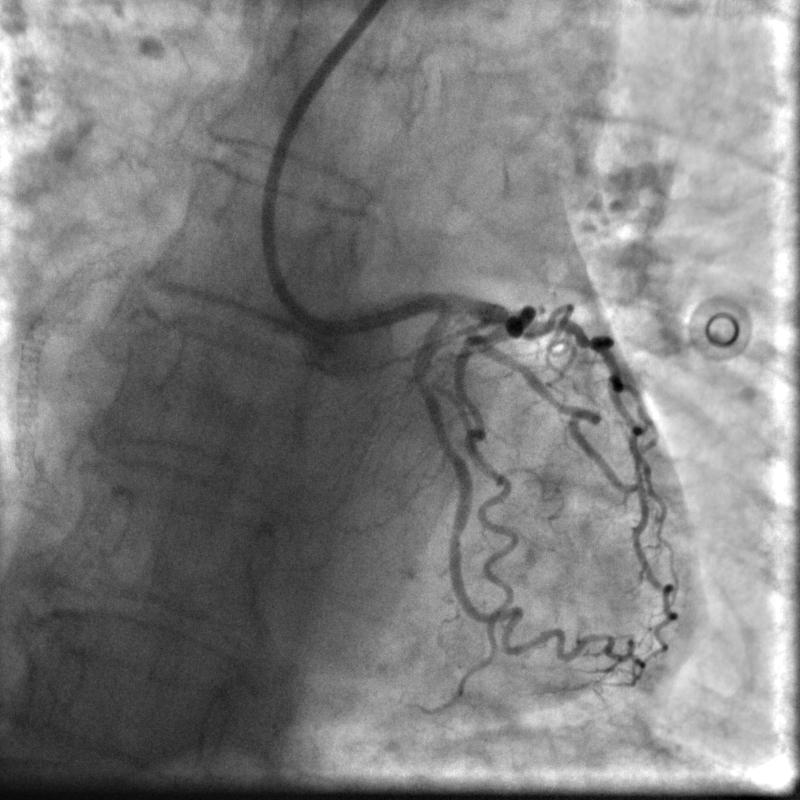Stenosis: (413, 364, 437, 396)
